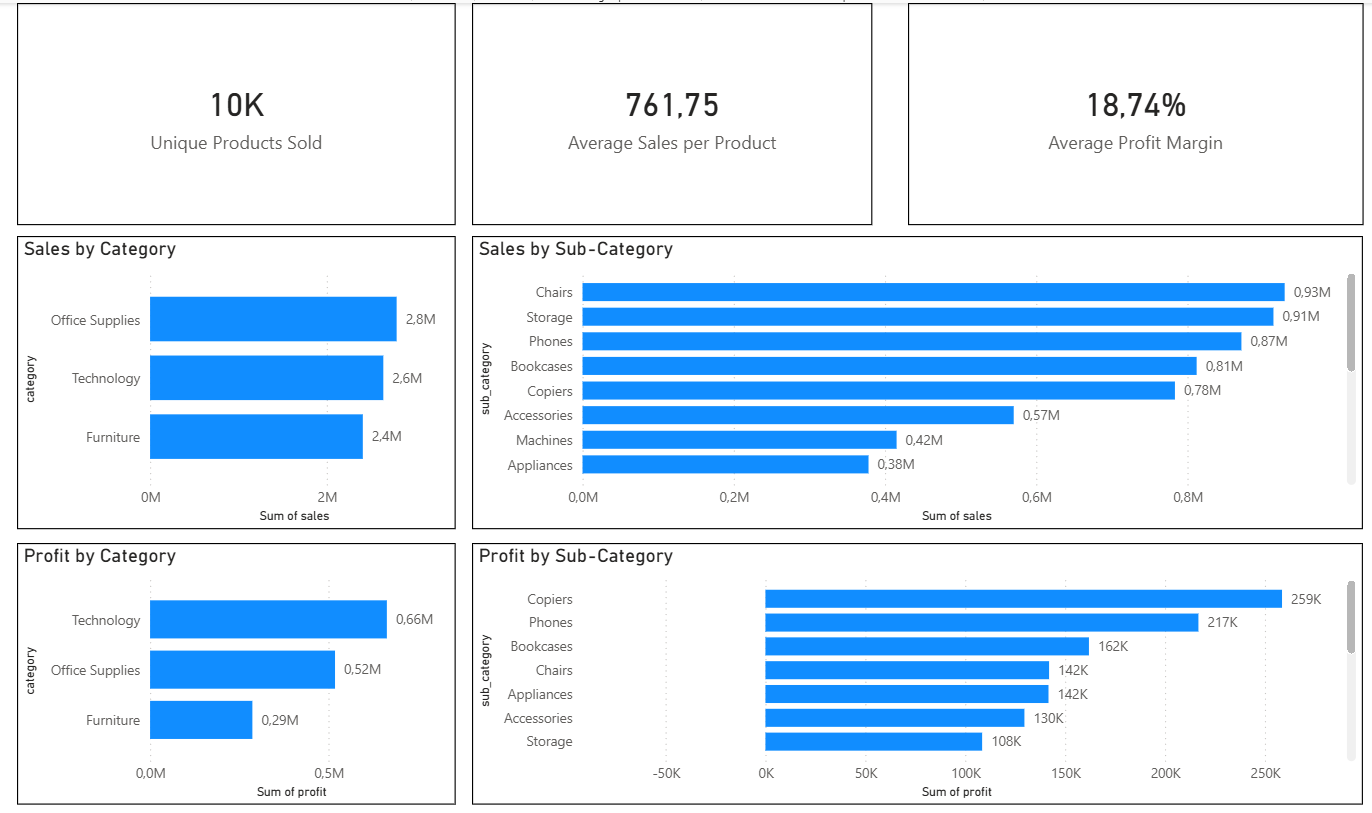

Layout of this report page (visuals, bound fields, positions):
{"tool":"powerbi","page":{"name":"Product & Category Analysis","canvas":[1280,720],"ordinal":1},"visuals":[{"type":"clusteredBarChart","title":"Sales by Category","fields":{"Category":["SuperStoreOrders.category"],"Y":["Sum(SuperStoreOrders.sales)"]},"box":[31.1,206.2,389.1,259.7],"z":0},{"type":"clusteredBarChart","title":"Profit by Category","fields":{"Y":["Sum(SuperStoreOrders.profit)"],"Category":["SuperStoreOrders.category"]},"box":[31.1,478.5,389.1,232.5],"z":1000},{"type":"clusteredBarChart","title":"Sales by Sub-Category","fields":{"Category":["SuperStoreOrders.sub_category"],"Y":["Sum(SuperStoreOrders.sales)"]},"box":[434.8,206.2,789.8,259.7],"z":2000},{"type":"clusteredBarChart","title":"Profit by Sub-Category","fields":{"Category":["SuperStoreOrders.sub_category"],"Y":["Sum(SuperStoreOrders.profit)"]},"box":[434.8,478.5,789.8,232.5],"z":3000},{"type":"card","fields":{"Values":["SuperStoreOrders.Unique Products Sold"]},"box":[31.1,0,389.1,197.4],"z":4000},{"type":"card","fields":{"Values":["SuperStoreOrders.Avg Sales per Product"]},"box":[434.8,0,355,197.4],"z":5000},{"type":"card","fields":{"Values":["SuperStoreOrders.Avg Profit Margin"]},"box":[820.9,0,403.6,197.4],"z":6000}]}

Visuals, with their boxes in screenshot pixels (x1, y1, x2, y2):
"Sales by Category" clusteredBarChart: [x1=7, y1=231, x2=449, y2=526]
"Profit by Category" clusteredBarChart: [x1=7, y1=540, x2=449, y2=804]
"Sales by Sub-Category" clusteredBarChart: [x1=465, y1=231, x2=1363, y2=526]
"Profit by Sub-Category" clusteredBarChart: [x1=465, y1=540, x2=1363, y2=804]
card - SuperStoreOrders.Unique Products Sold: [x1=7, y1=0, x2=449, y2=221]
card - SuperStoreOrders.Avg Sales per Product: [x1=465, y1=0, x2=869, y2=221]
card - SuperStoreOrders.Avg Profit Margin: [x1=904, y1=0, x2=1363, y2=221]
